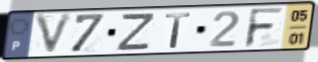2: (208, 9, 241, 48)
7: (72, 13, 107, 55)
F: (242, 6, 286, 49)
T: (164, 11, 194, 50)
V: (33, 11, 76, 57)
Z: (114, 11, 158, 52)
